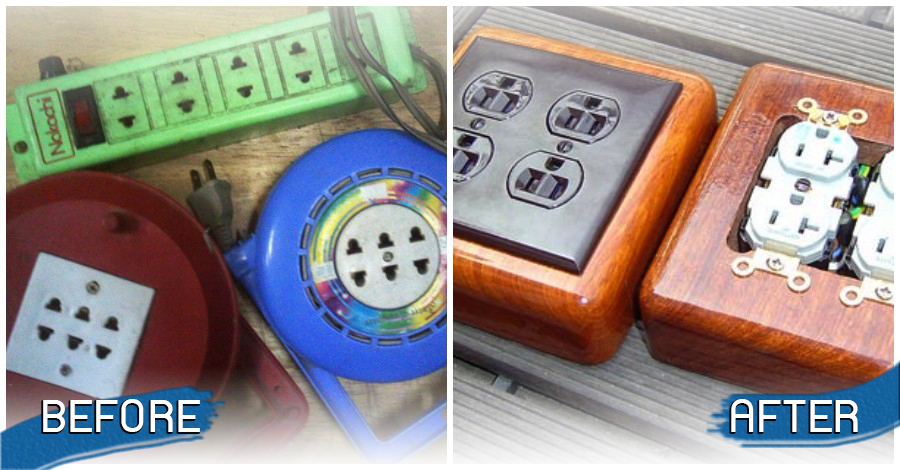Three_eye_plug: (6, 2, 436, 185), (224, 124, 451, 450), (435, 37, 703, 258), (3, 170, 240, 399), (699, 60, 900, 309)
